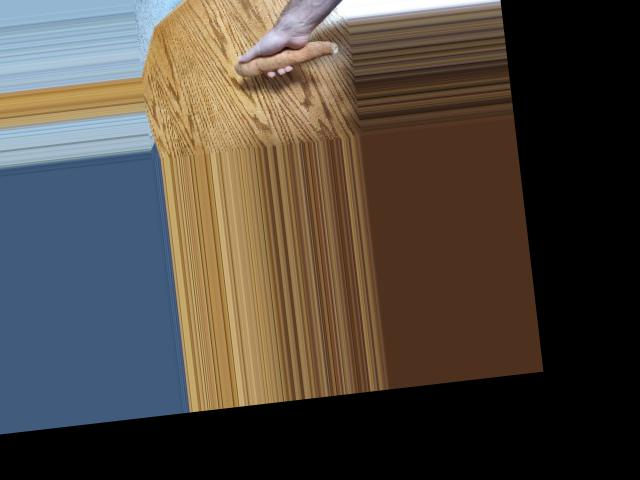sweet_potato: (234, 36, 340, 82)
